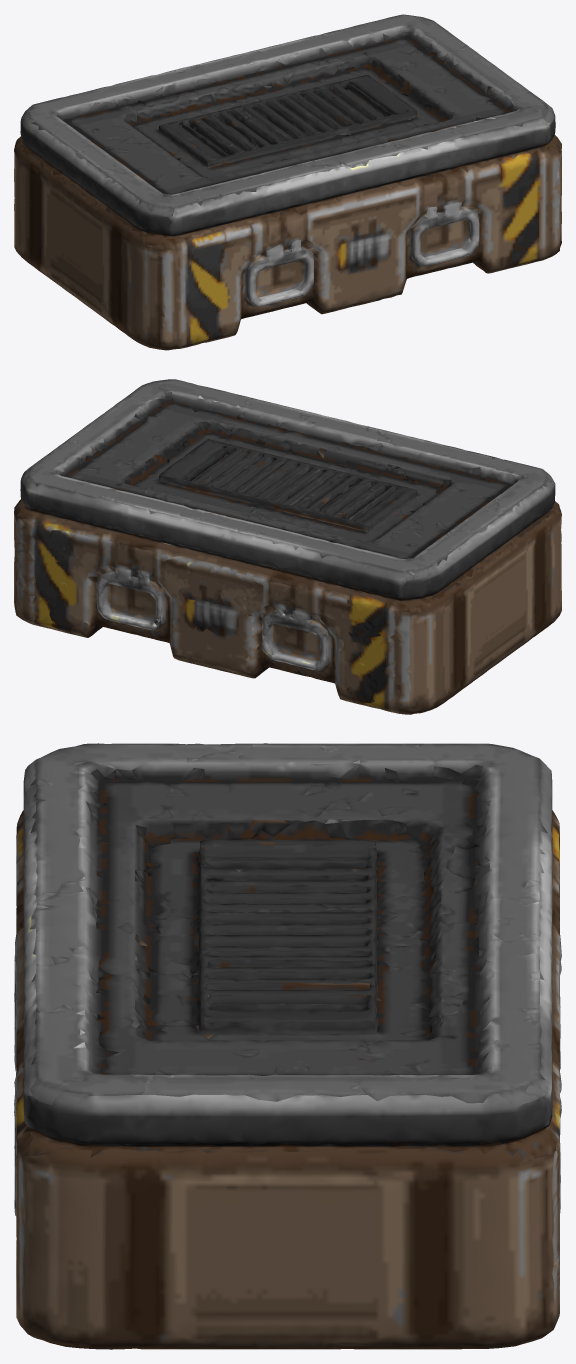
Rendered from BROKA0.obj.
The picture shows the model from 3 angles, top to bottom: view 1: azimuth 30°, elevation 25°; view 2: azimuth 150°, elevation 25°; view 3: azimuth 270°, elevation 25°; orthographic projection. The views are drawn at different scales.
Bounding box in the file's own units: 1 × 0.319 × 0.63.
Materials: 1 (1 with a texture image).
